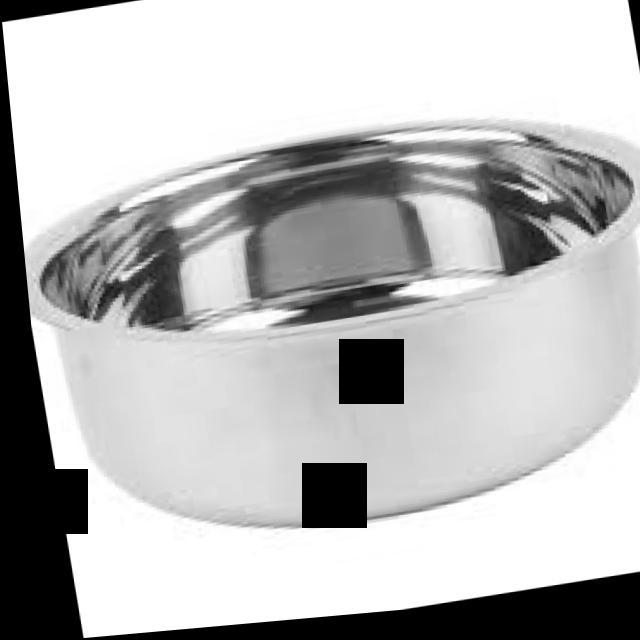Sponge Bowl: (9, 79, 640, 578)
